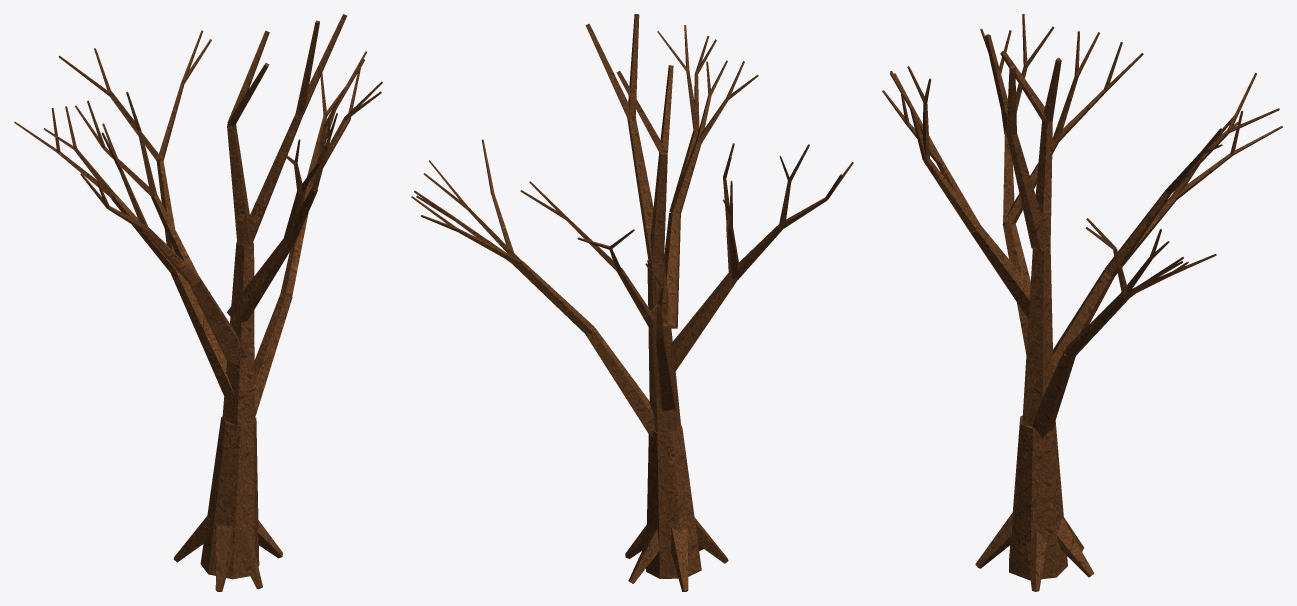
File: tree_dead_01_real.gltf
3 renders of one model, left to right at view 1: azimuth 30°, elevation 25°; view 2: azimuth 150°, elevation 25°; view 3: azimuth 270°, elevation 25°, orthographic. The views are drawn at different scales.
Visible parts, largest first — view 1: tree_dead_01; view 2: tree_dead_01; view 3: tree_dead_01.
Boxes of the visible parts, bbox=[...] form: tree_dead_01: bbox=[14, 14, 382, 591]; tree_dead_01: bbox=[411, 14, 853, 591]; tree_dead_01: bbox=[882, 14, 1282, 591].
Size of the model in its own units: 4.19 by 6.02 by 3.87.
Materials: 1 (1 with a texture image).
